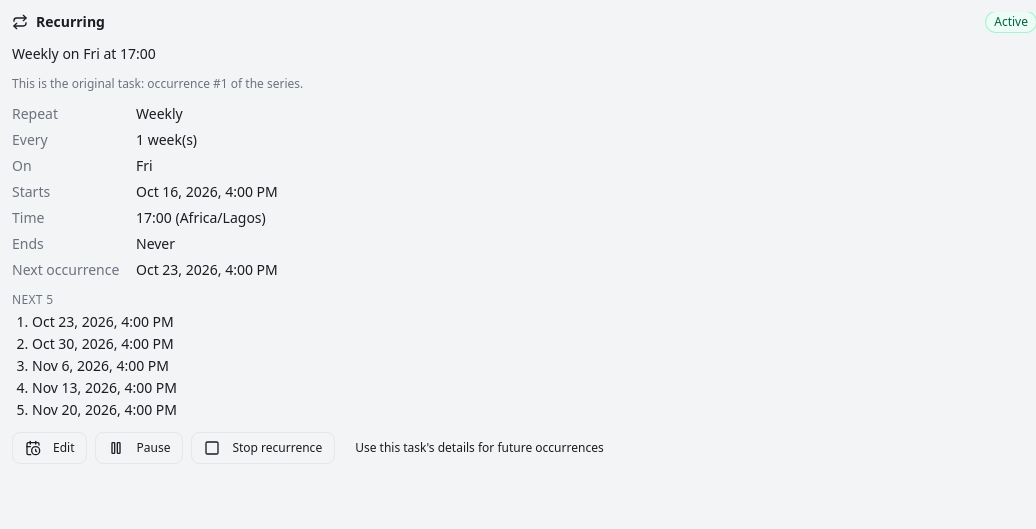
Test: TaskRecurrenceSection › Pause -> Resume; paused shows the reason; Resume only exists while paused
This screenshot has width=1036, height=529.
Check: the button "Resume" is not shown
Click the button "Pause": [139, 448] box [96, 432, 183, 464]
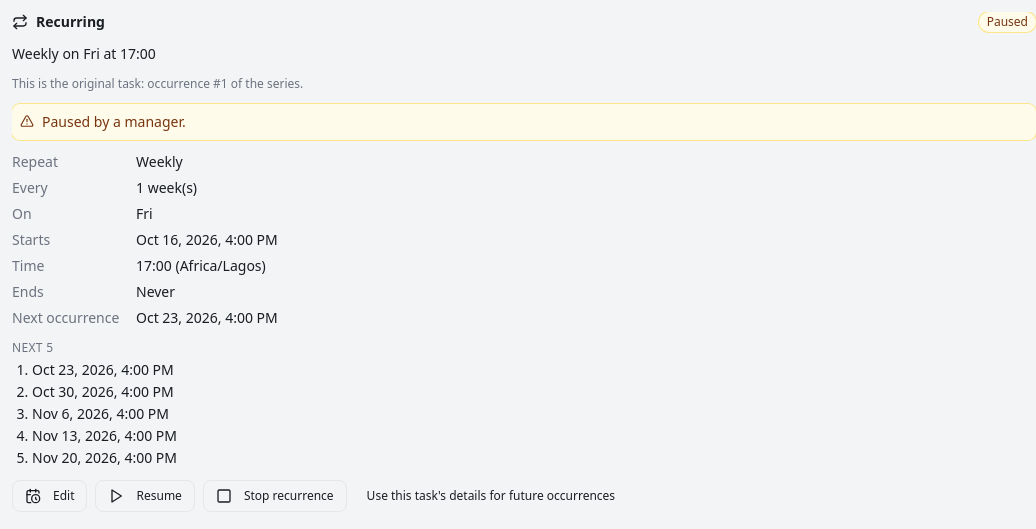
Check: the text with test id "recurrence-status" reads "Paused", box [987, 13, 1028, 30]
Check: the message with test id "recurrence-paused-notice" shows "Paused by a manager", box [42, 112, 186, 131]
Click the button "Resume": [145, 496] box [96, 480, 195, 512]
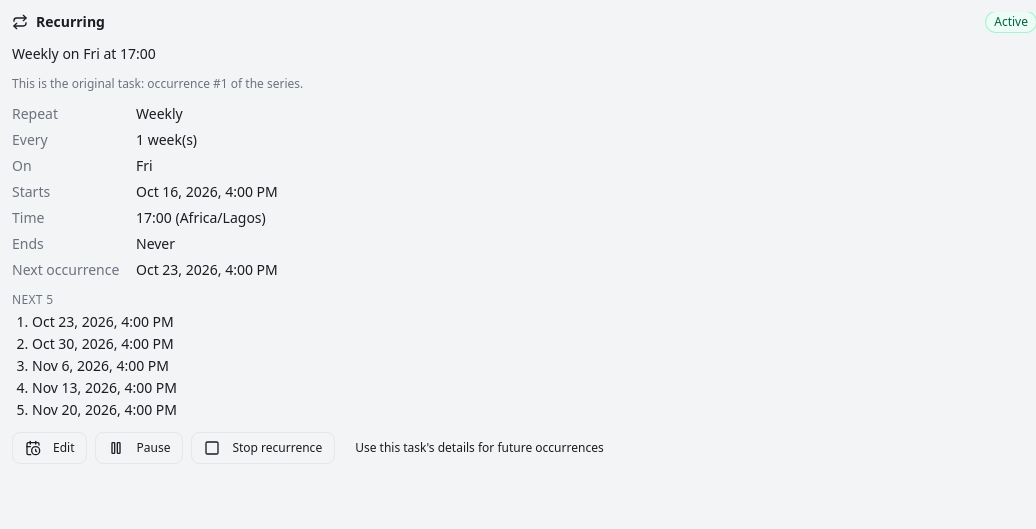
Check: the text with test id "recurrence-status" reads "Active", box [994, 13, 1028, 30]
